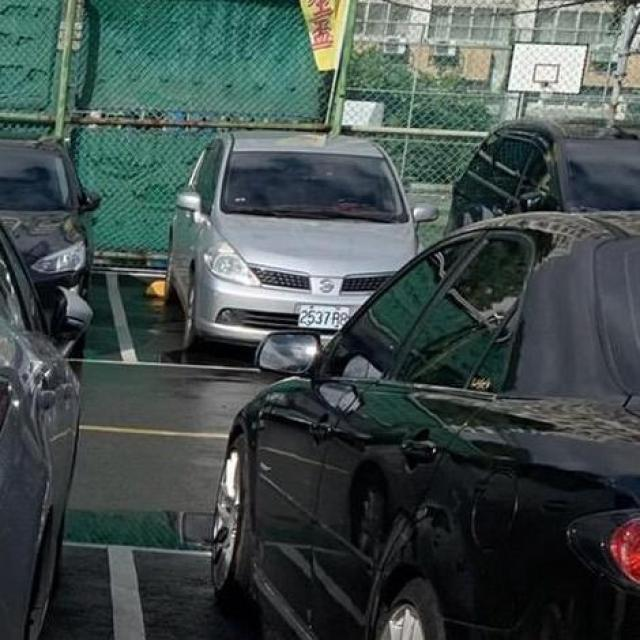W: (291, 297, 353, 332)
